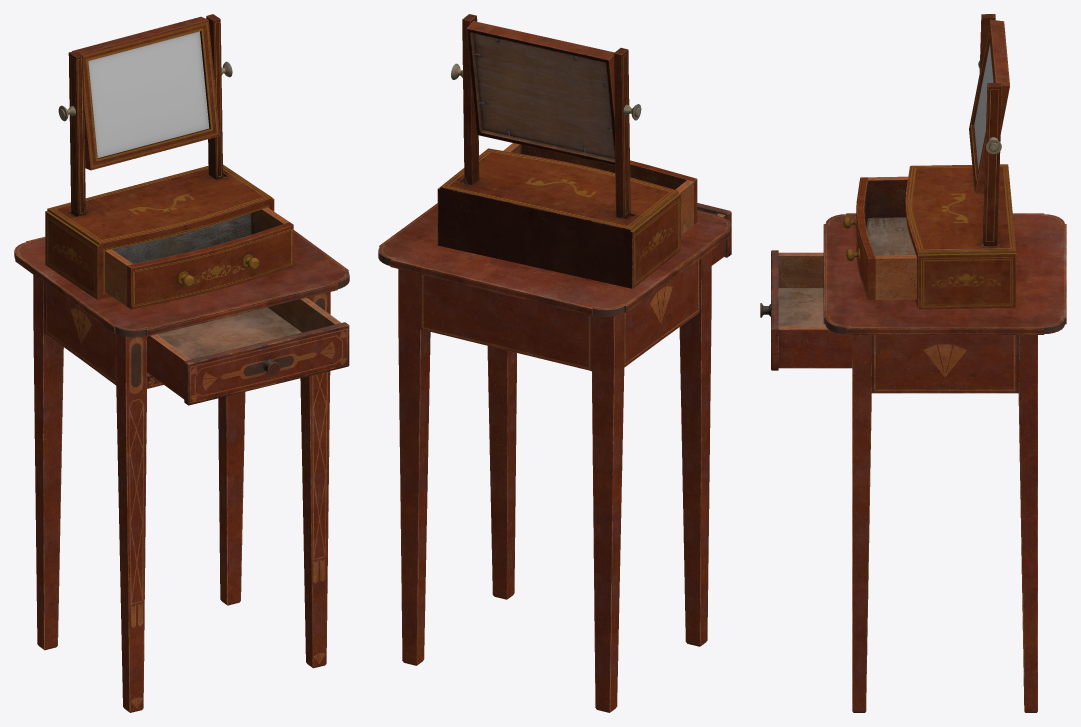
Rendered from Tablke with Mirror and Drawer.fbx.
The picture shows the model from 3 angles, left to right: view 1: azimuth 30°, elevation 25°; view 2: azimuth 150°, elevation 25°; view 3: azimuth 270°, elevation 25°; orthographic projection. The views are drawn at different scales.
Visible parts, largest first — view 1: 1800s Federal Style Side Table.001, 1800s Federal Style Vanity.001; view 2: 1800s Federal Style Side Table.001, 1800s Federal Style Vanity.001; view 3: 1800s Federal Style Side Table.001, 1800s Federal Style Vanity.001.
Boxes of the visible parts, box(x1,y1,x2,y2) form: 1800s Federal Style Side Table.001: box(14, 230, 349, 712); 1800s Federal Style Vanity.001: box(45, 14, 293, 309); 1800s Federal Style Side Table.001: box(378, 203, 731, 712); 1800s Federal Style Vanity.001: box(437, 14, 697, 288); 1800s Federal Style Side Table.001: box(760, 213, 1066, 712); 1800s Federal Style Vanity.001: box(843, 14, 1016, 309).
Size of the model in its own units: 47.69 by 118 by 53.81.
3 materials, 3 textured.
